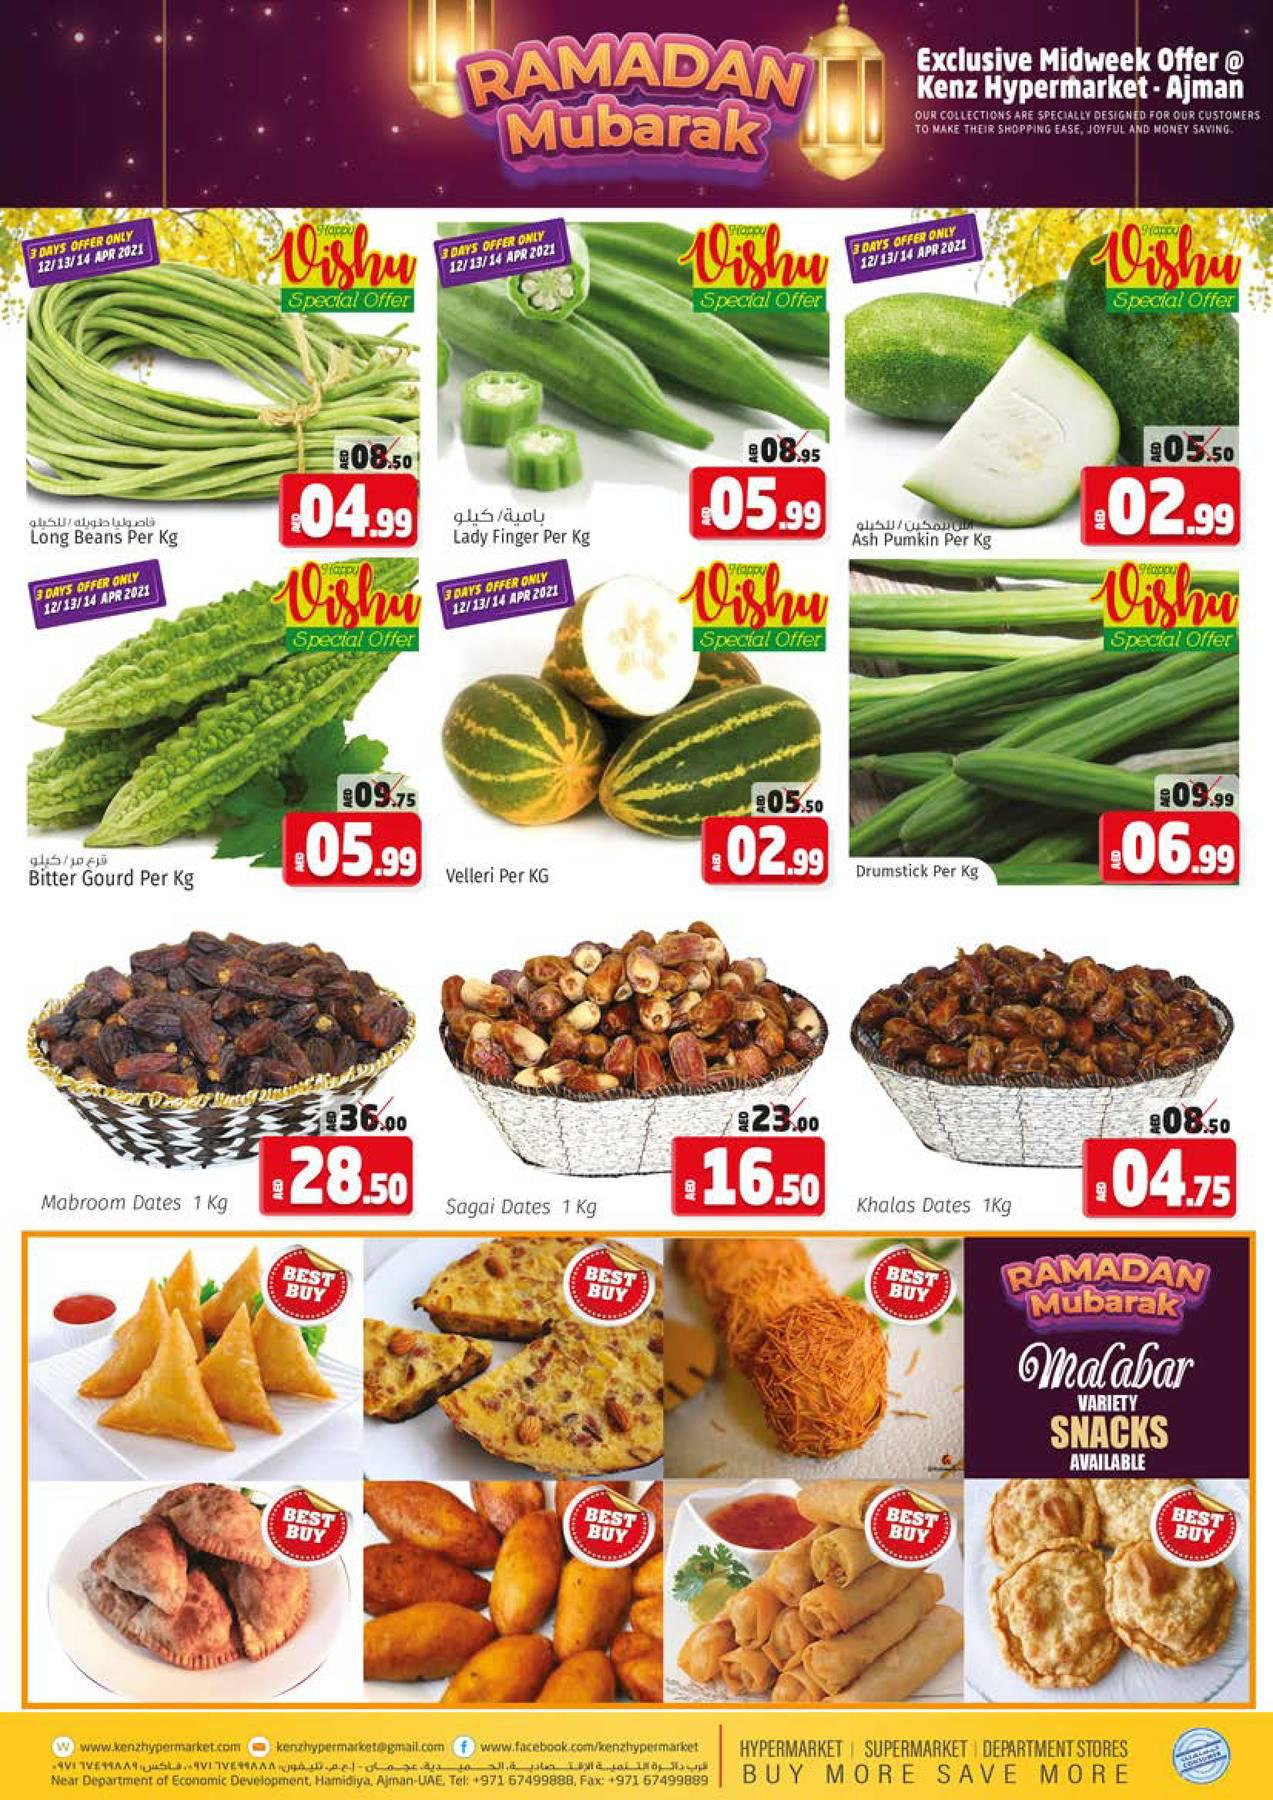text: (438, 501, 612, 559), (18, 510, 200, 559), (843, 505, 1002, 561)
